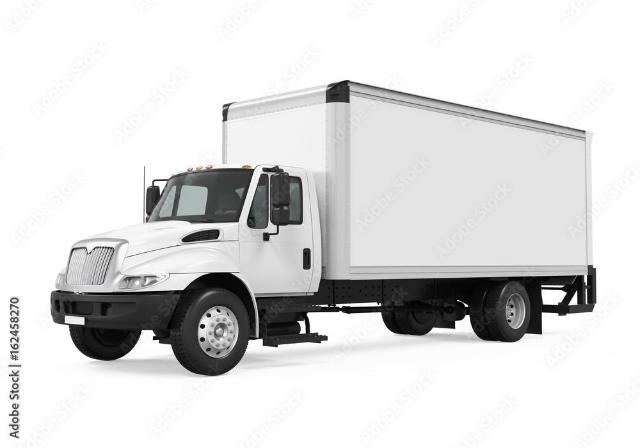truck: (36, 59, 605, 369)
